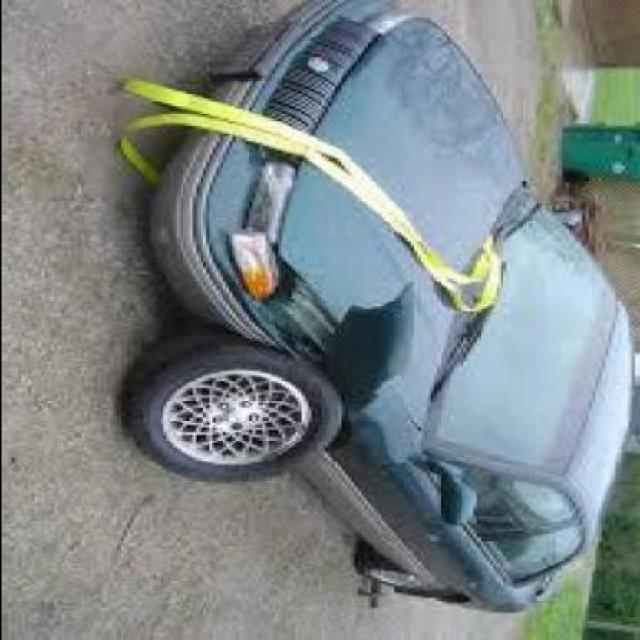damage: (170, 209, 421, 453)
